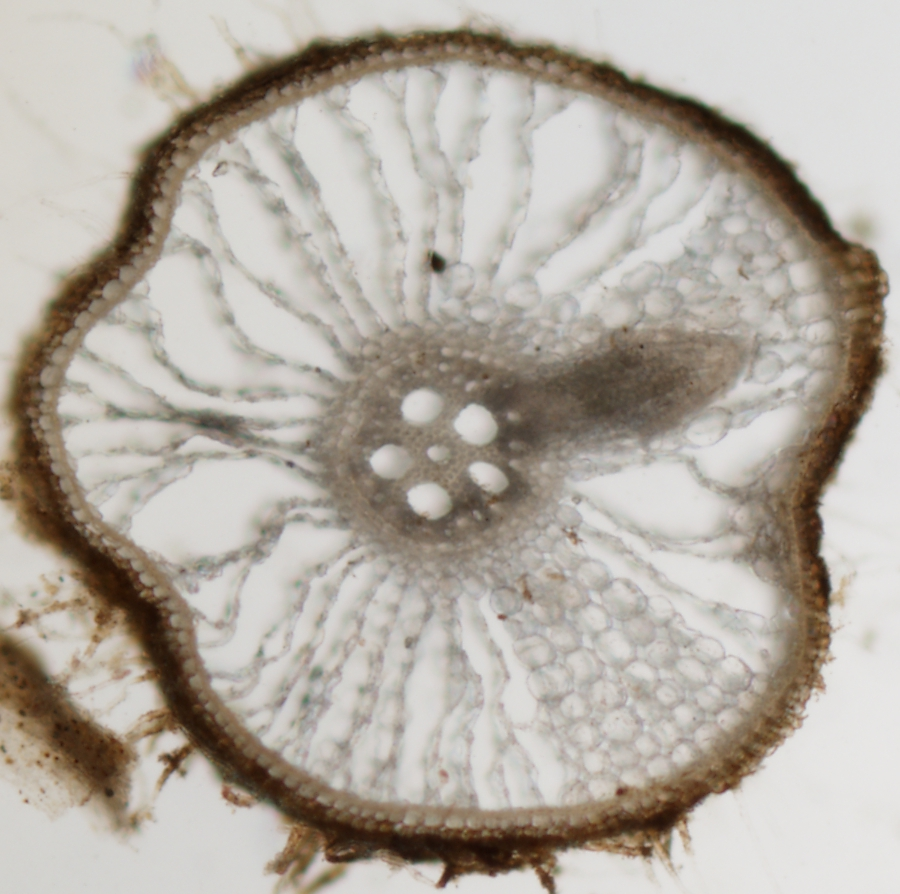lm: (454, 402, 499, 446), (406, 481, 453, 520), (370, 442, 415, 479), (400, 386, 444, 423), (468, 461, 510, 495), (427, 444, 452, 464)
